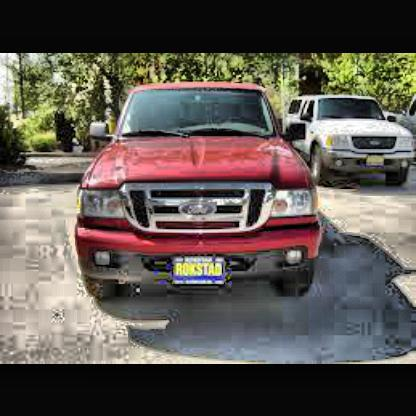Ford Ranger SuperCab 2011: (75, 77, 325, 303)
